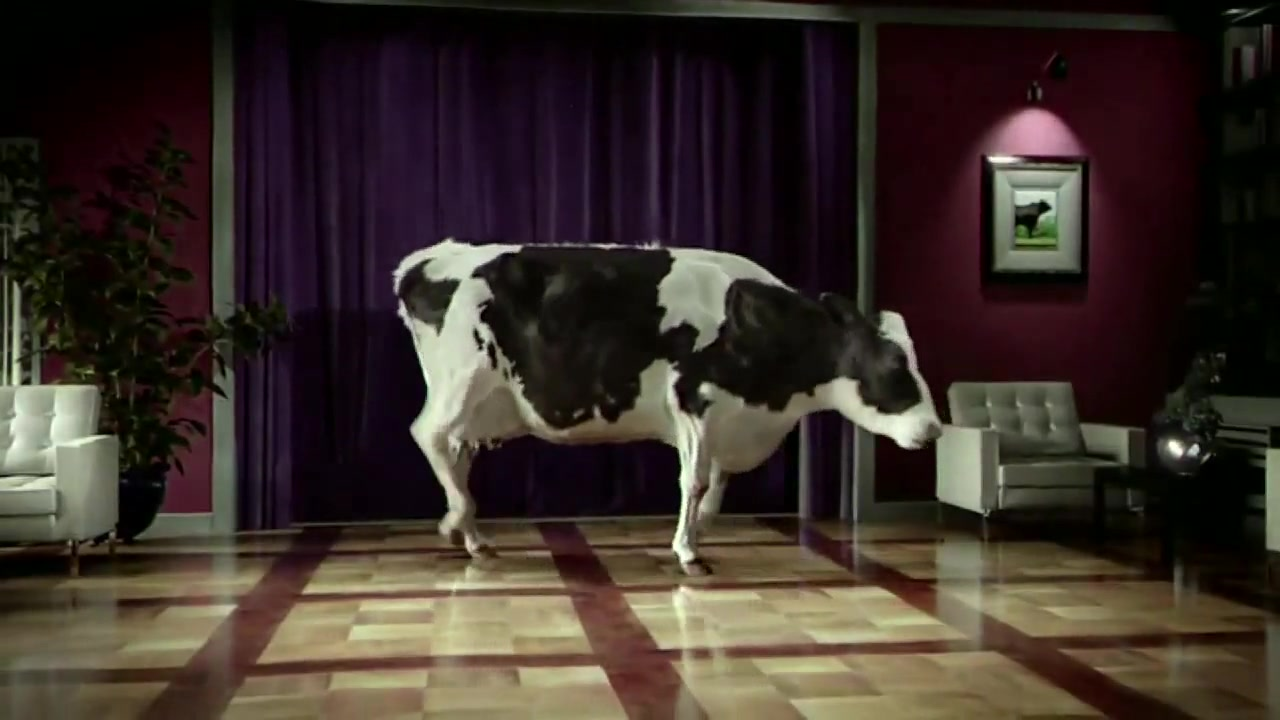cow: (385, 235, 943, 570)
